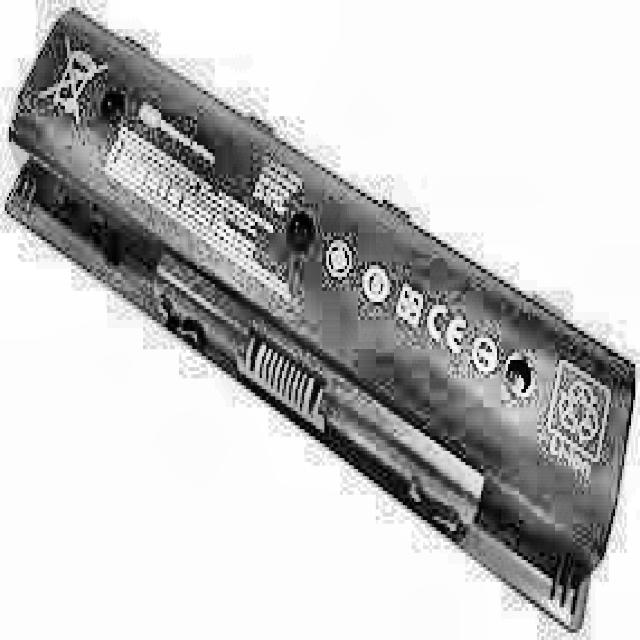Battery: (11, 11, 633, 622)
